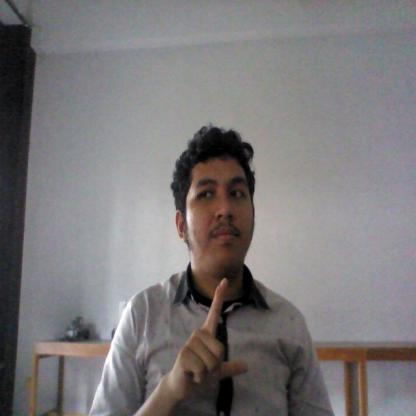L: (166, 276, 256, 404)
